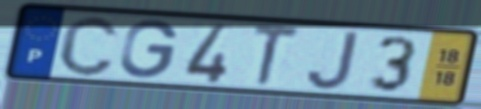3: (367, 34, 418, 94)
4: (183, 21, 232, 86)
C: (55, 13, 122, 78)
G: (117, 18, 181, 80)
J: (304, 28, 362, 92)
T: (249, 23, 303, 89)
